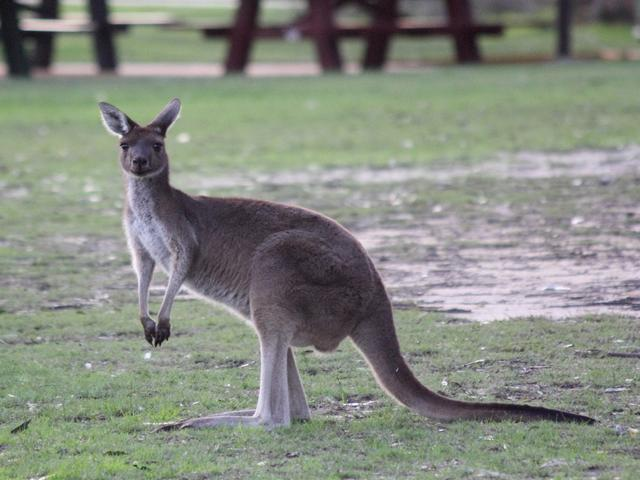kangaroo: (69, 50, 617, 434)
